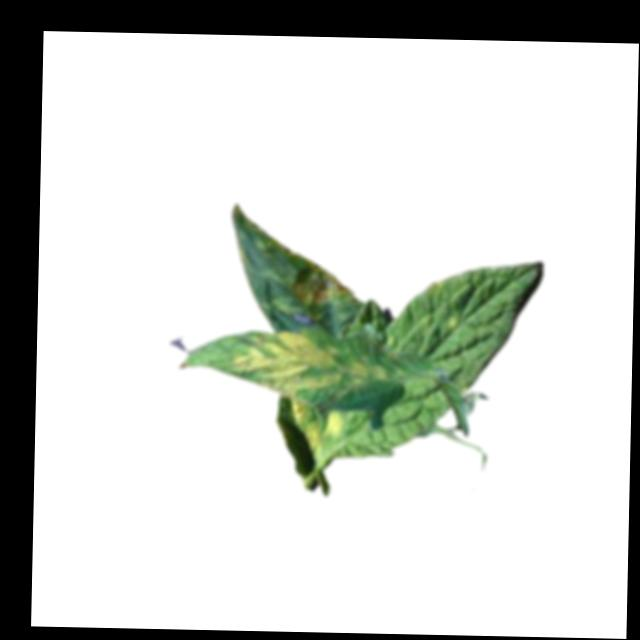Leaf_Mold: (231, 330, 389, 399), (282, 255, 357, 310), (290, 398, 341, 452)
